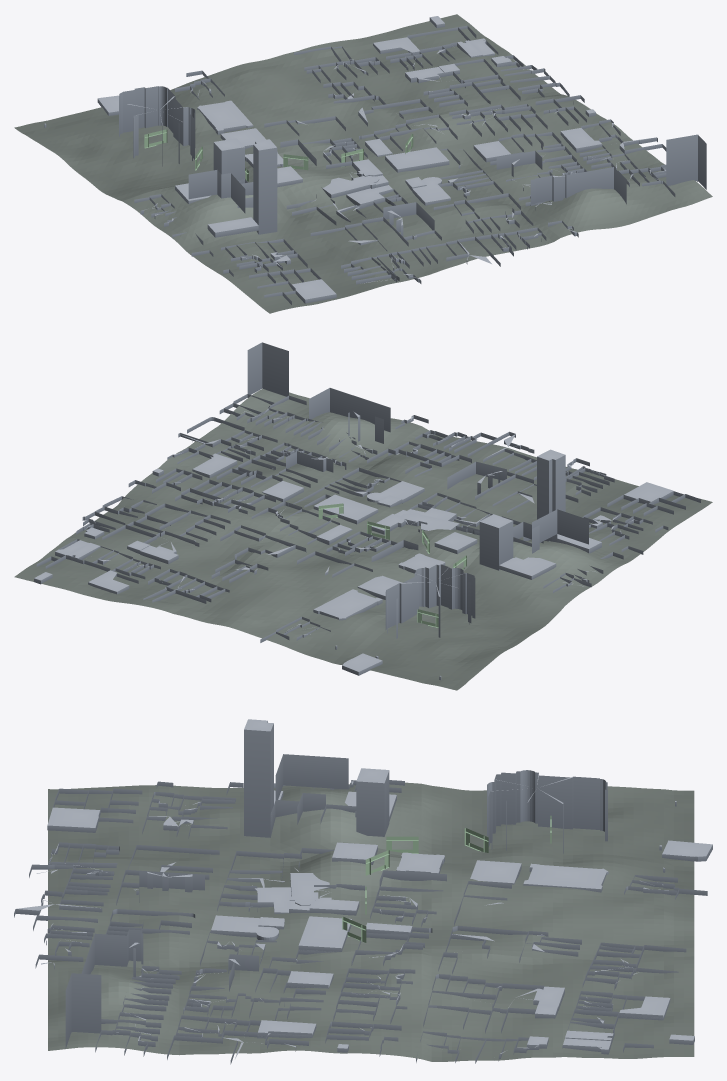
Rendered from hub_01_atlantis_chisel.glb.
3 views of the same model, one above another, from view 1: azimuth 30°, elevation 25°; view 2: azimuth 150°, elevation 25°; view 3: azimuth 270°, elevation 25° (orthographic). The views are drawn at different scales.
Visible parts, largest first — view 1: DISTRICT_CHISEL_COLLIDER; view 2: DISTRICT_CHISEL_COLLIDER; view 3: DISTRICT_CHISEL_COLLIDER.
Part boxes in pixels (left/top/right/bottom): DISTRICT_CHISEL_COLLIDER: left=14, top=14, right=712, bottom=313; DISTRICT_CHISEL_COLLIDER: left=14, top=342, right=712, bottom=690; DISTRICT_CHISEL_COLLIDER: left=14, top=719, right=712, bottom=1064.
Size of the model in its own units: 167 by 32.06 by 173.
